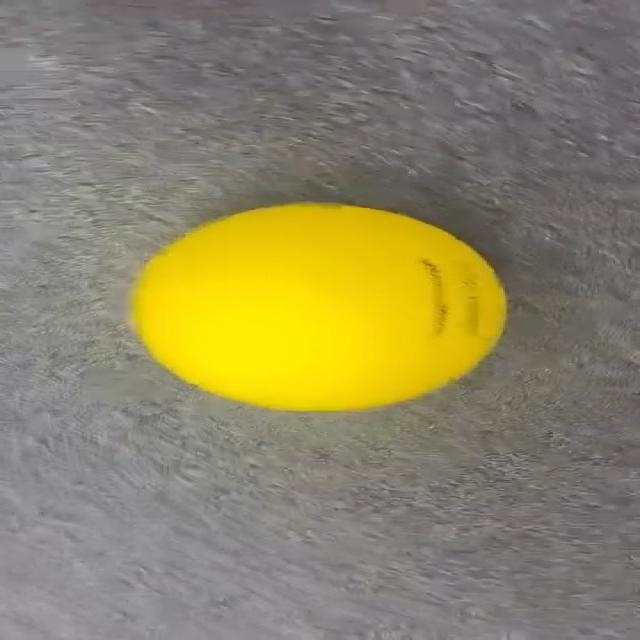Fuels: (133, 203, 501, 409)
